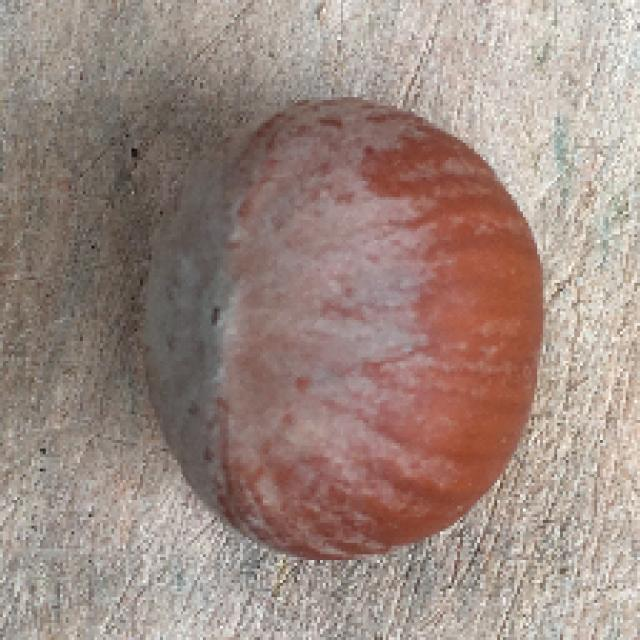qualityHazelnut: (148, 88, 547, 569)
